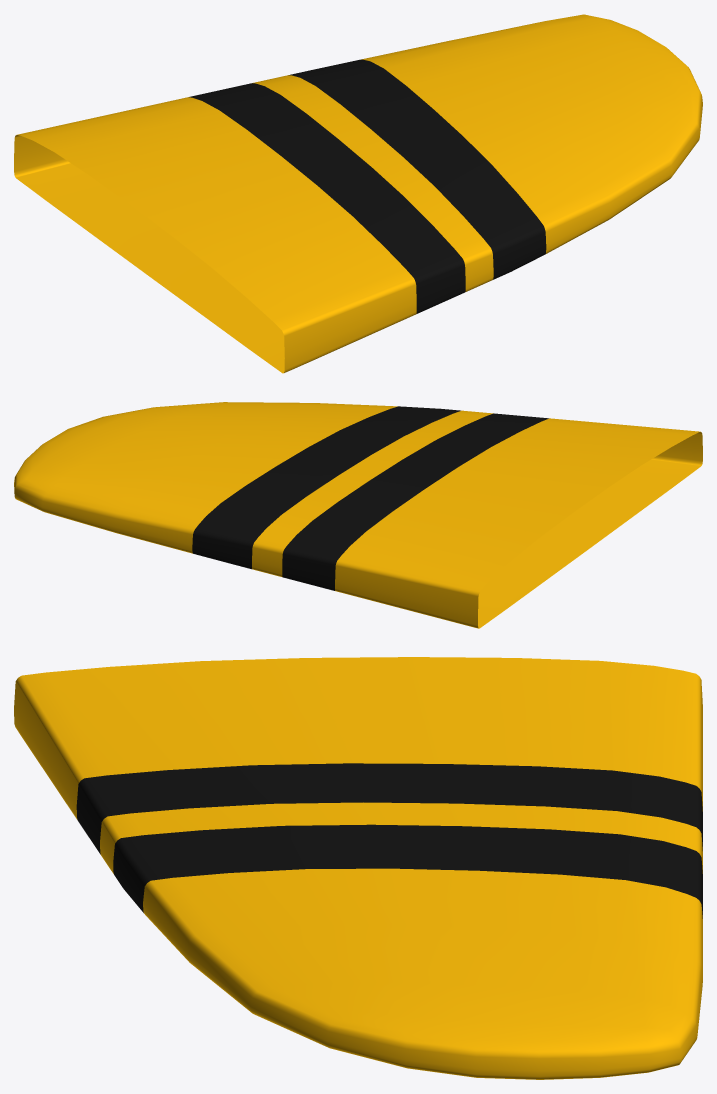
The model's file is wing_L.fbx.
3 views of the same model, one above another, from view 1: azimuth 30°, elevation 25°; view 2: azimuth 150°, elevation 25°; view 3: azimuth 270°, elevation 25° (orthographic). The views are drawn at different scales.
Visible parts, largest first — view 1: wing_L; view 2: wing_L; view 3: wing_L.
Part boxes in pixels (x1,y1,x2,y2): wing_L: (14, 14, 702, 373); wing_L: (14, 402, 702, 628); wing_L: (14, 657, 702, 1079).
Bounding box in the file's own units: 130 × 12.16 × 103.
1 material, 1 textured.
